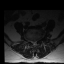CCS_stenosis: (33, 39, 35, 46)
LFS_stenosis: (37, 37, 39, 42)
LLS_normal: (35, 39, 37, 45)
RFS_stenosis: (29, 38, 31, 44)
RLS_normal: (31, 39, 33, 45)
